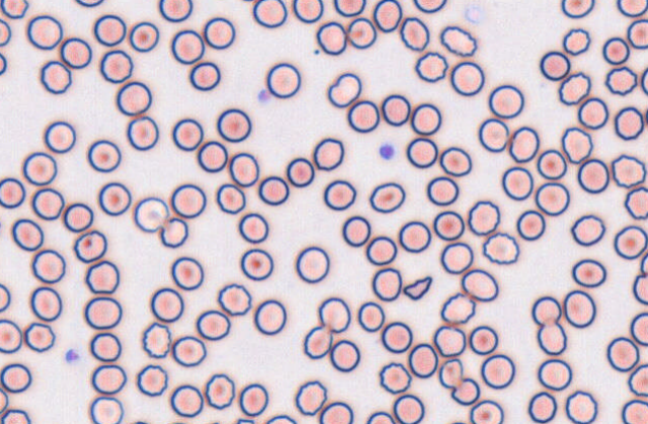PLT: (378, 143, 398, 162), (64, 348, 83, 363), (256, 88, 270, 105)
RBC: (133, 196, 169, 232), (295, 245, 329, 283), (83, 296, 122, 329), (563, 289, 596, 328), (170, 183, 206, 218), (27, 14, 62, 50), (116, 81, 152, 116), (460, 268, 498, 301), (480, 354, 515, 389), (84, 259, 119, 294), (611, 153, 646, 188), (488, 84, 524, 118), (266, 62, 300, 98), (31, 248, 65, 283), (150, 287, 184, 322), (327, 72, 361, 107), (534, 181, 569, 215), (22, 151, 57, 185), (170, 29, 204, 64), (216, 108, 251, 142), (450, 61, 484, 96), (606, 336, 639, 372), (253, 299, 286, 335), (318, 296, 350, 333), (482, 232, 519, 264), (561, 126, 593, 163), (439, 25, 477, 56), (613, 225, 647, 259), (170, 256, 204, 290), (73, 229, 107, 263), (99, 49, 133, 83), (294, 380, 327, 415), (217, 283, 252, 316), (467, 200, 500, 235), (98, 181, 131, 216), (126, 115, 159, 150), (369, 181, 405, 213), (169, 384, 203, 417), (558, 71, 591, 105), (87, 139, 121, 172), (440, 292, 475, 324), (537, 358, 572, 390), (171, 335, 206, 367), (30, 286, 62, 321), (570, 214, 605, 246), (577, 158, 609, 193), (204, 373, 235, 409), (508, 126, 539, 162), (90, 364, 127, 394), (378, 361, 411, 394), (440, 241, 473, 274), (398, 220, 431, 253), (31, 187, 64, 220), (43, 120, 76, 153), (432, 325, 466, 357), (501, 166, 533, 200), (171, 117, 203, 151), (195, 309, 230, 340), (228, 152, 259, 187), (478, 117, 509, 152), (141, 322, 171, 358), (408, 342, 438, 378), (565, 390, 597, 423), (11, 218, 43, 251), (240, 248, 273, 280), (347, 99, 379, 132), (93, 14, 126, 46), (203, 16, 235, 49), (371, 267, 402, 301), (40, 60, 71, 94), (414, 51, 448, 82), (399, 16, 429, 51), (136, 364, 168, 396), (196, 140, 228, 172), (536, 322, 567, 355), (329, 339, 360, 372), (313, 137, 344, 170), (323, 179, 356, 210), (410, 102, 441, 135), (614, 106, 644, 140), (316, 21, 346, 55), (571, 258, 606, 287), (23, 321, 55, 352), (381, 321, 412, 353), (577, 97, 608, 129), (60, 37, 92, 68), (406, 137, 438, 168), (238, 383, 268, 416), (303, 325, 332, 359), (89, 396, 124, 424), (539, 50, 570, 81), (128, 21, 159, 52), (0, 363, 32, 393), (392, 393, 424, 423), (527, 391, 557, 423), (89, 332, 121, 362), (432, 210, 464, 240), (365, 235, 397, 265), (372, 0, 402, 32), (439, 146, 471, 176), (604, 66, 637, 95), (252, 0, 287, 27), (531, 295, 561, 326), (536, 149, 567, 179), (215, 183, 245, 214), (341, 215, 371, 246), (62, 202, 93, 232), (238, 212, 268, 243), (258, 175, 289, 205), (189, 61, 220, 91), (159, 216, 188, 248), (426, 176, 458, 205), (381, 94, 410, 126), (468, 325, 498, 355), (516, 209, 545, 240), (347, 17, 376, 48), (357, 301, 385, 332), (286, 157, 314, 187), (469, 399, 503, 423), (602, 36, 630, 65), (562, 27, 590, 55), (438, 358, 463, 389), (0, 177, 25, 208), (0, 318, 22, 353), (318, 401, 353, 423), (624, 186, 647, 219), (158, 0, 192, 22), (292, 0, 323, 23), (627, 363, 647, 396), (560, 0, 595, 18), (621, 399, 647, 423), (627, 18, 647, 49), (630, 312, 647, 346), (333, 0, 365, 17), (616, 0, 647, 17), (0, 0, 28, 18), (0, 408, 31, 424), (632, 273, 647, 305), (412, 0, 447, 13), (365, 410, 395, 423), (0, 283, 11, 312), (0, 18, 11, 46), (265, 414, 297, 423), (640, 66, 648, 95), (0, 388, 8, 415), (74, 0, 104, 7), (640, 250, 648, 275), (0, 52, 7, 75), (234, 417, 255, 423), (165, 420, 191, 424), (446, 420, 469, 424), (128, 420, 150, 424), (202, 420, 222, 424), (0, 216, 3, 242), (645, 104, 648, 126), (238, 0, 257, 2)
Schistocyte: (404, 275, 433, 301), (452, 380, 480, 404)
